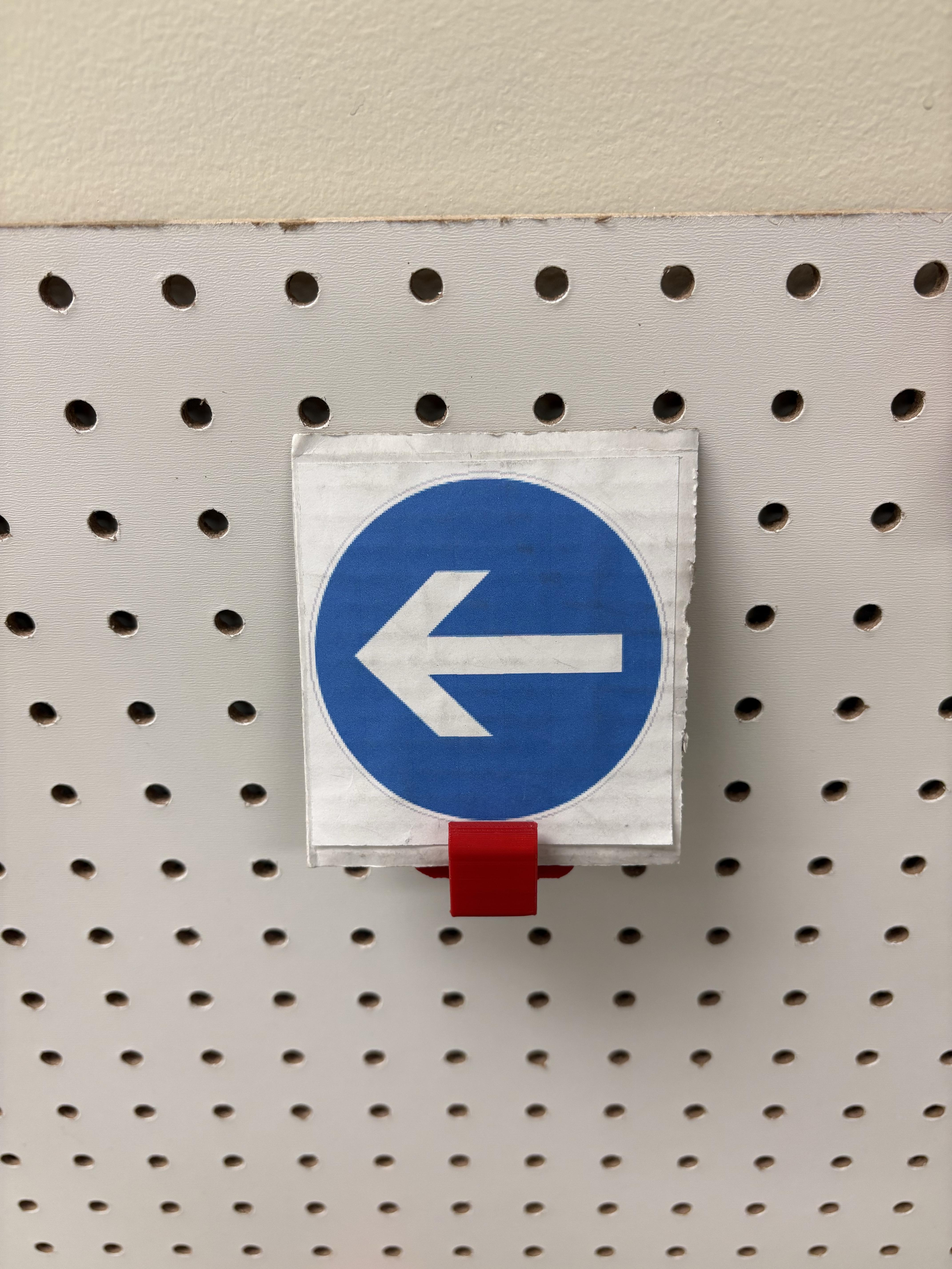Proceed Left: (218, 569, 527, 1167)
